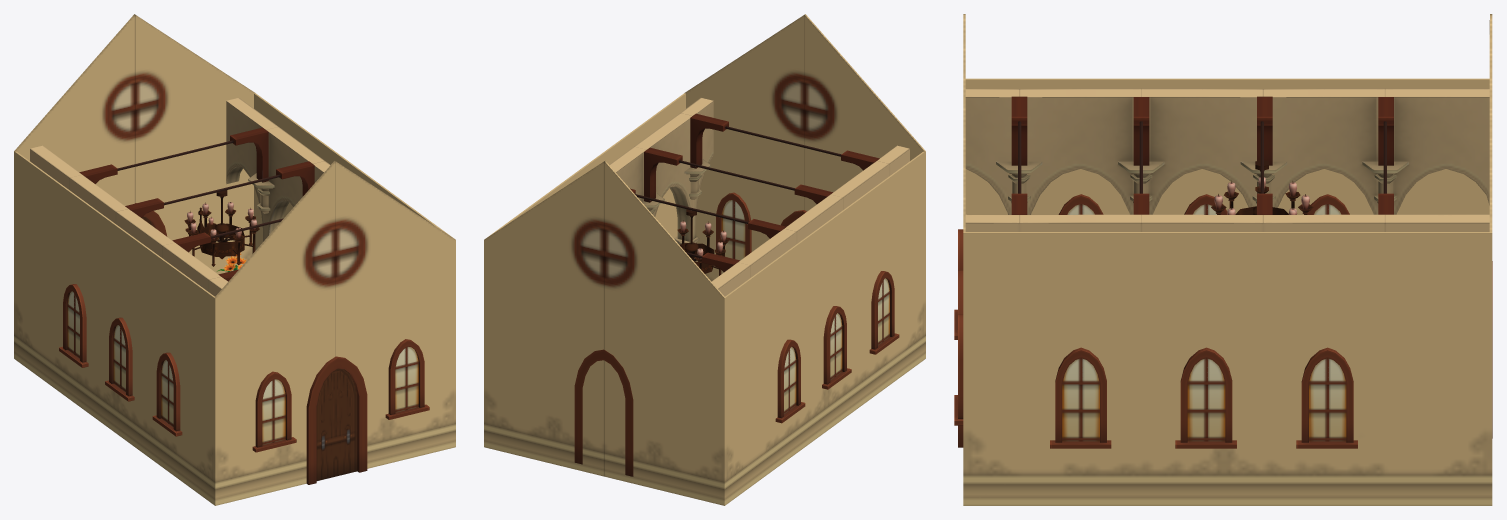
File: Church_F.FBX
The picture shows the model from 3 angles, left to right: view 1: azimuth 30°, elevation 25°; view 2: azimuth 150°, elevation 25°; view 3: azimuth 270°, elevation 25°; orthographic projection. The views are drawn at different scales.
Parts seen in each view (by area): view 1: Church_Wall4, Church_Wall1, Church_Wall3, Church_Pillars, Church_Window (×2), Church_Wall2, Church_DoorFrame, Door_10, Church_CeilingLamp, Door_10a; view 2: Church_Wall3, Church_Wall1, Church_Wall4, Church_Pillars, Church_Wall2, Church_Window, Church_CeilingLamp; view 3: Church_Wall2, Church_Pillars, Church_Wall1, Church_CeilingLamp, Church_Wall3, Church_Wall4, Church_Window.
Boxes of the visible parts, x1,y1,x2,y2 form: Church_Wall4: [214, 160, 455, 505]; Church_Wall1: [14, 151, 216, 505]; Church_Wall3: [14, 14, 255, 274]; Church_Pillars: [30, 98, 330, 296]; Church_Window (×2): [252, 339, 429, 452]; Church_Wall2: [254, 93, 455, 447]; Church_DoorFrame: [306, 356, 367, 484]; Door_10: [335, 368, 357, 476]; Church_CeilingLamp: [184, 190, 259, 266]; Door_10a: [316, 370, 335, 480]; Church_Wall3: [484, 160, 725, 505]; Church_Wall1: [724, 151, 925, 505]; Church_Wall4: [684, 14, 925, 349]; Church_Pillars: [609, 98, 909, 296]; Church_Wall2: [487, 93, 685, 238]; Church_Window: [716, 192, 751, 260]; Church_CeilingLamp: [665, 209, 728, 275]; Church_Wall2: [963, 232, 1492, 505]; Church_Pillars: [965, 88, 1489, 231]; Church_Wall1: [965, 78, 1489, 214]; Church_CeilingLamp: [1211, 160, 1313, 214]; Church_Wall3: [1489, 14, 1492, 497]; Church_Wall4: [963, 14, 965, 504]; Church_Window: [954, 314, 963, 425].
Bounding box in the file's own units: 317 × 378 × 444.
